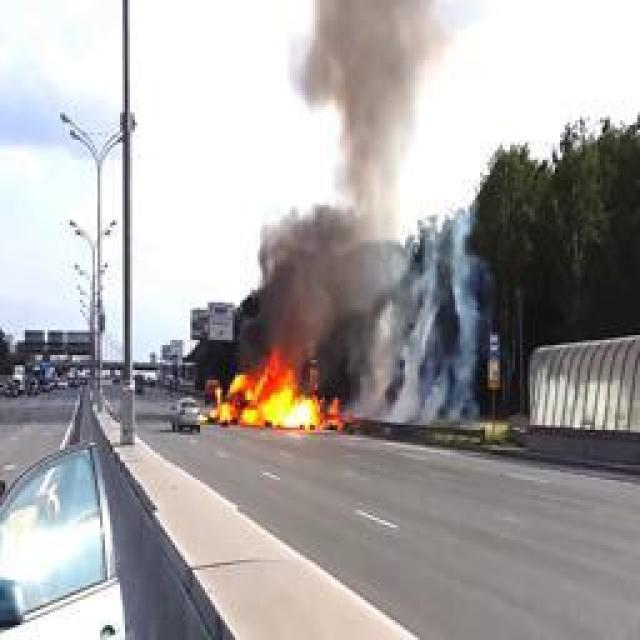Fire: (212, 350, 342, 430)
